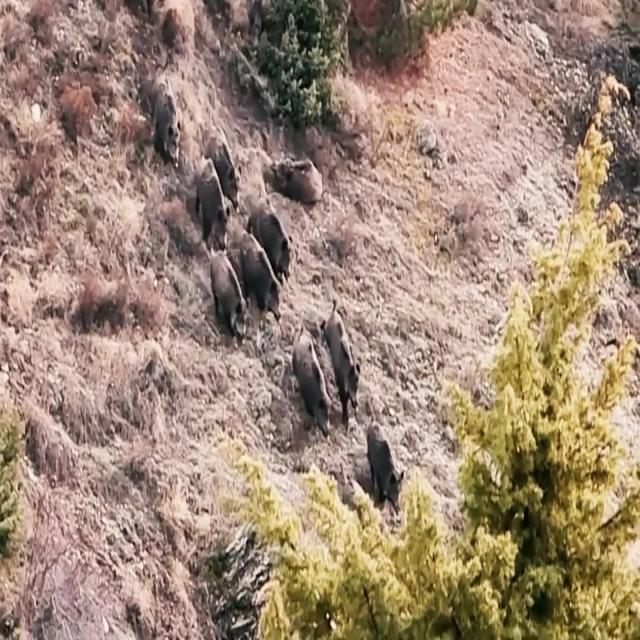pig: (210, 244, 256, 334), (364, 430, 408, 507), (248, 233, 292, 309), (332, 308, 364, 400), (300, 322, 332, 405), (190, 158, 237, 214), (142, 75, 182, 137)
